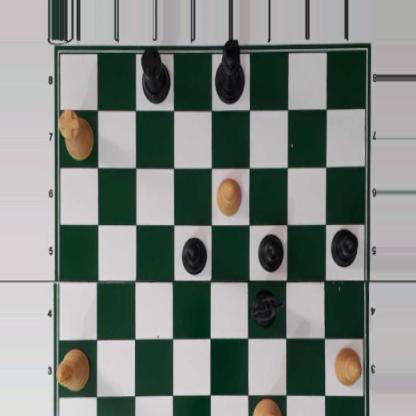black-king: (214, 39, 245, 105)
black-knight: (252, 287, 285, 329)
black-pawn: (330, 227, 358, 267), (180, 237, 208, 275), (258, 231, 283, 272)
black-rook: (139, 46, 172, 104)
white-bishop: (54, 348, 91, 393)
white-king: (252, 398, 283, 416)
white-pawn: (332, 346, 363, 387), (215, 175, 242, 217)
white-rook: (58, 110, 94, 161)
